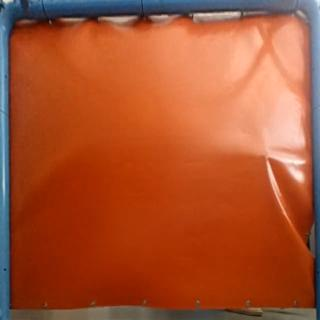Hit-hRxx: (260, 149, 274, 164)
